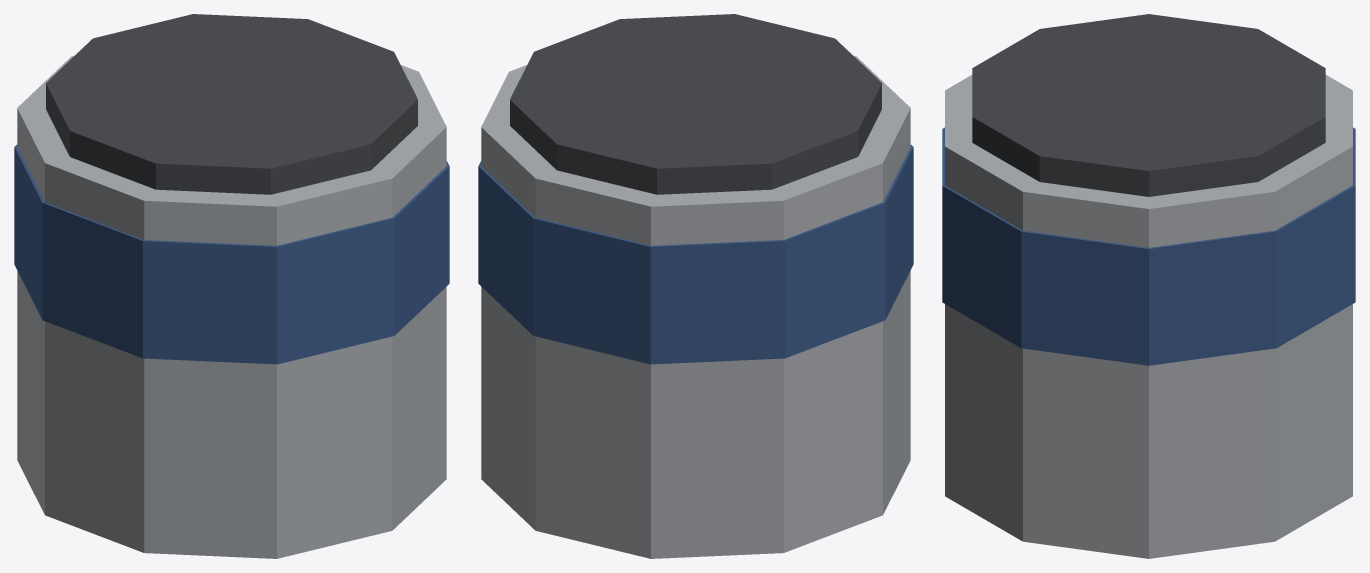
The model's file is SM_Prop_PaintCan_01.glb.
3 views of the same model, side by side, from view 1: azimuth 30°, elevation 25°; view 2: azimuth 150°, elevation 25°; view 3: azimuth 270°, elevation 25° (orthographic).
Visible parts, largest first — view 1: SM_Prop_PaintCan_01; view 2: SM_Prop_PaintCan_01; view 3: SM_Prop_PaintCan_01.
Boxes of the visible parts, left/top/right/bottom form: SM_Prop_PaintCan_01: left=14, top=14, right=449, bottom=558; SM_Prop_PaintCan_01: left=478, top=14, right=913, bottom=558; SM_Prop_PaintCan_01: left=942, top=14, right=1355, bottom=558.
Size of the model in its own units: 0.304 by 0.29 by 0.2891.
1 material, 1 textured.
